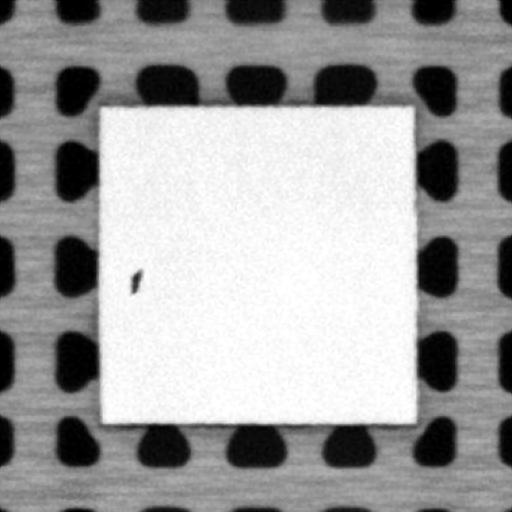DIE_INK: (127, 268, 144, 294)
